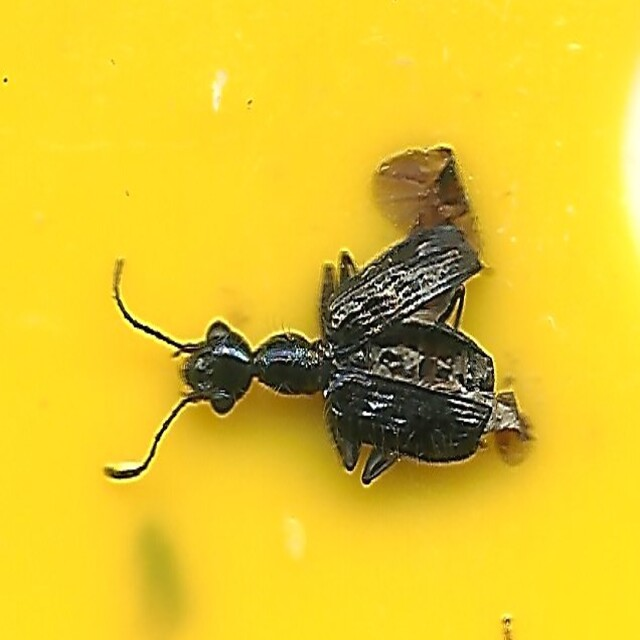Coleoptera: (101, 150, 539, 490)
